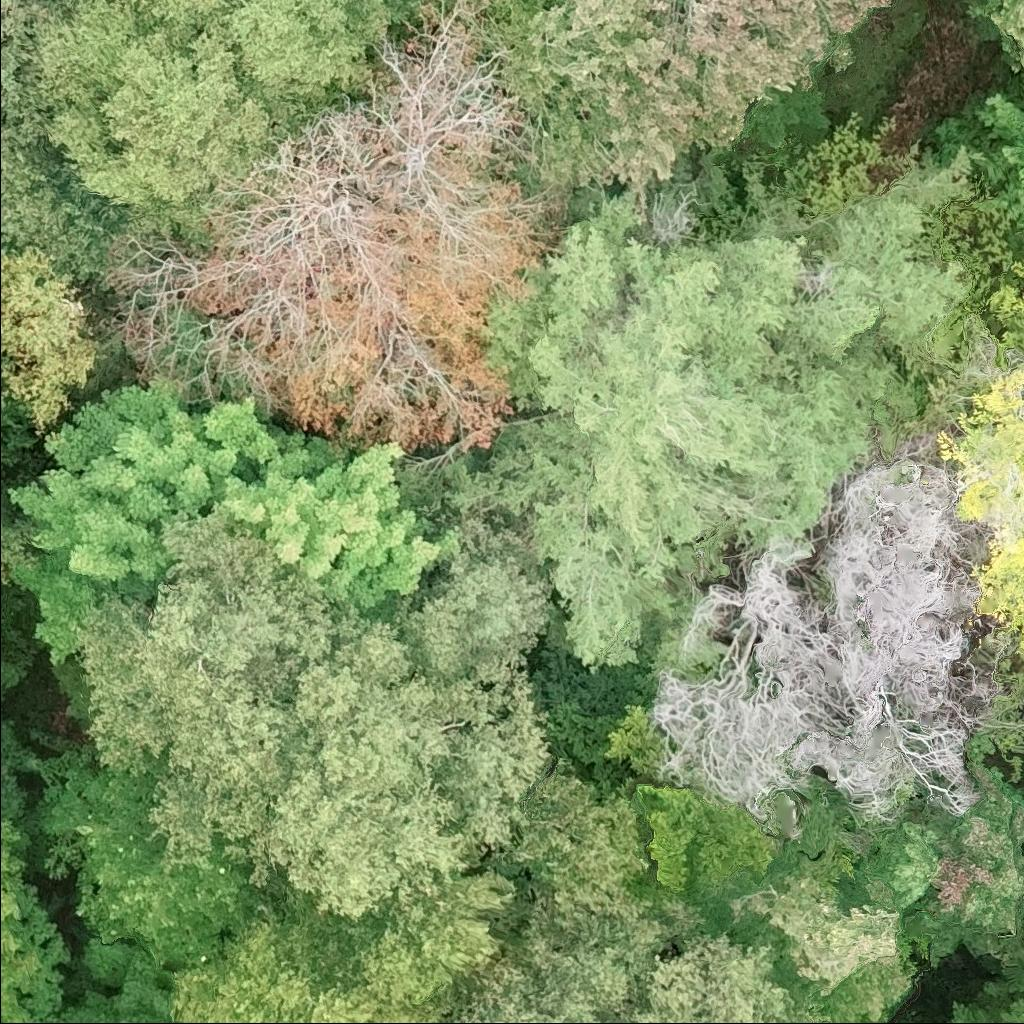crown: (438, 141, 975, 684), (648, 428, 1023, 823), (0, 369, 461, 665), (268, 510, 561, 923), (74, 515, 373, 885), (20, 0, 419, 250), (24, 730, 284, 983), (165, 862, 540, 1023), (281, 239, 545, 465), (448, 889, 826, 1023), (483, 0, 707, 213), (0, 0, 130, 277), (678, 0, 895, 150), (704, 872, 913, 1023), (870, 754, 1023, 948), (485, 757, 652, 900), (0, 239, 102, 438), (0, 818, 71, 1023), (935, 365, 1023, 524), (935, 87, 1023, 190), (971, 522, 1023, 659), (58, 959, 168, 1023), (966, 0, 1023, 73), (983, 259, 1023, 320), (0, 517, 25, 573), (0, 432, 15, 460), (33, 1010, 58, 1023), (1015, 205, 1023, 228)
